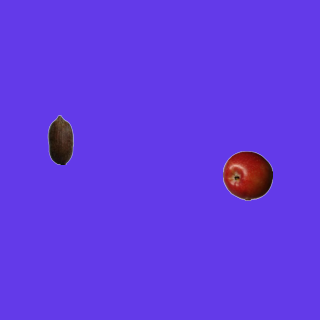Apple Braeburn: (222, 150, 272, 200)
Nut Pecan: (35, 114, 85, 164)
